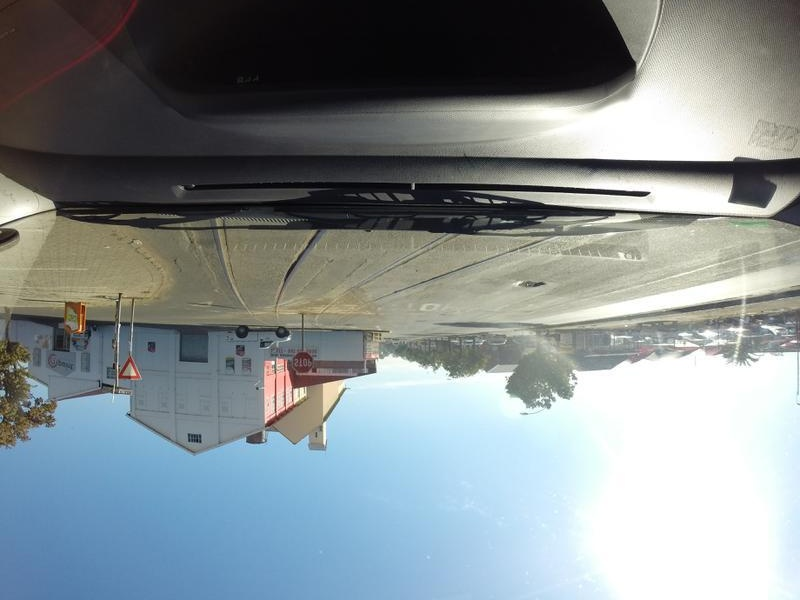pothole: (515, 270, 552, 293)
